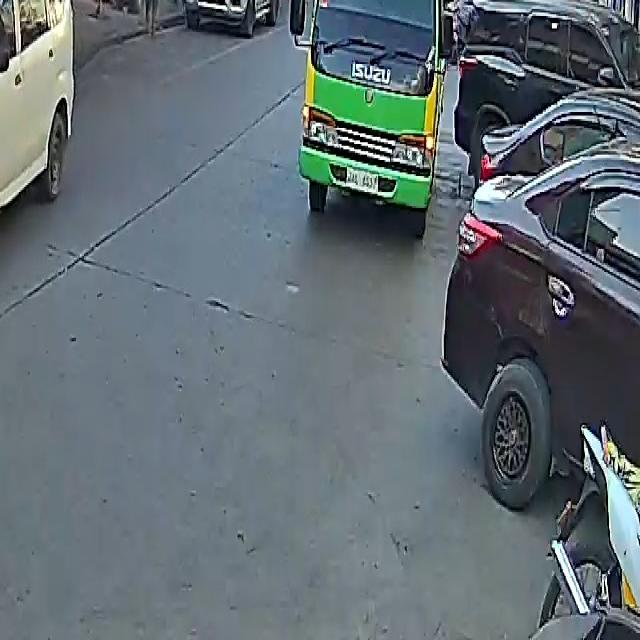car: (442, 143, 640, 504), (450, 0, 639, 185), (0, 0, 81, 297), (183, 0, 281, 34)
